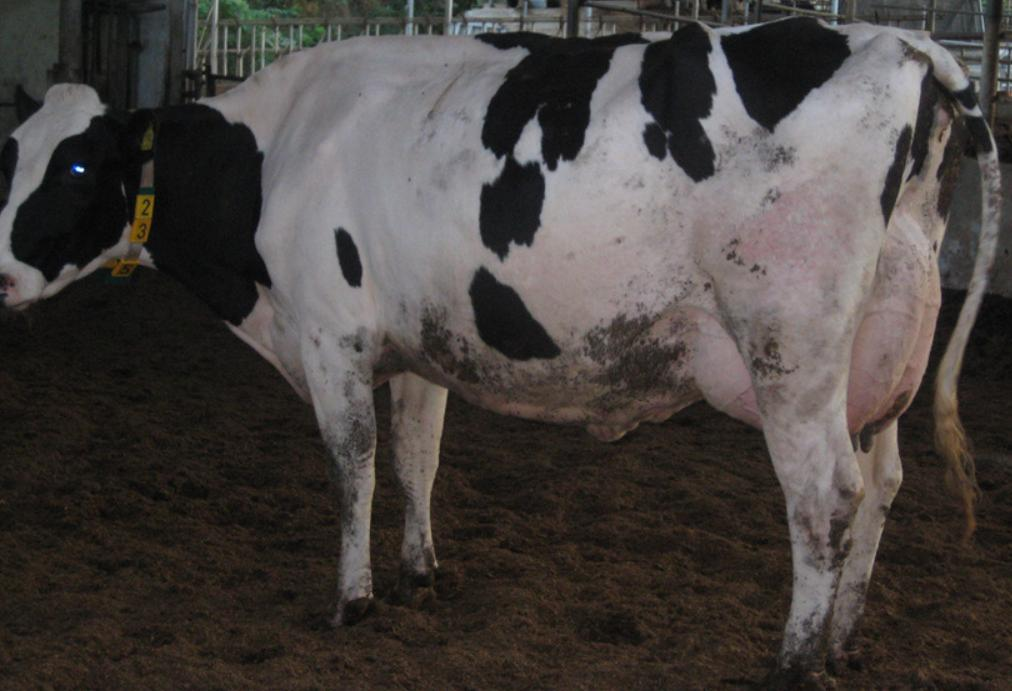cow: (0, 20, 1002, 671)
